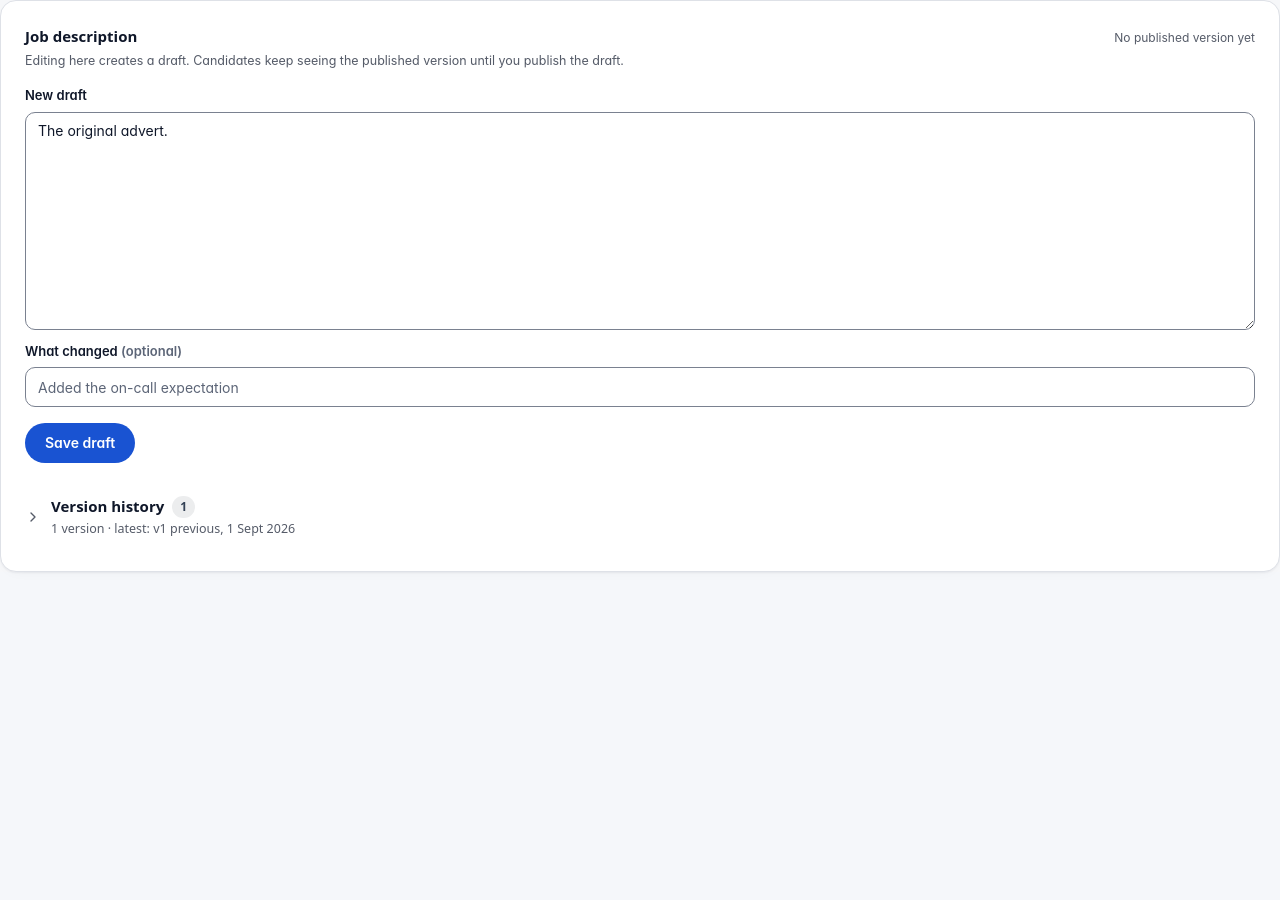
it: history › shows when each version was the live one
Click the button "Version history": (108, 506) [25, 487, 1255, 547]
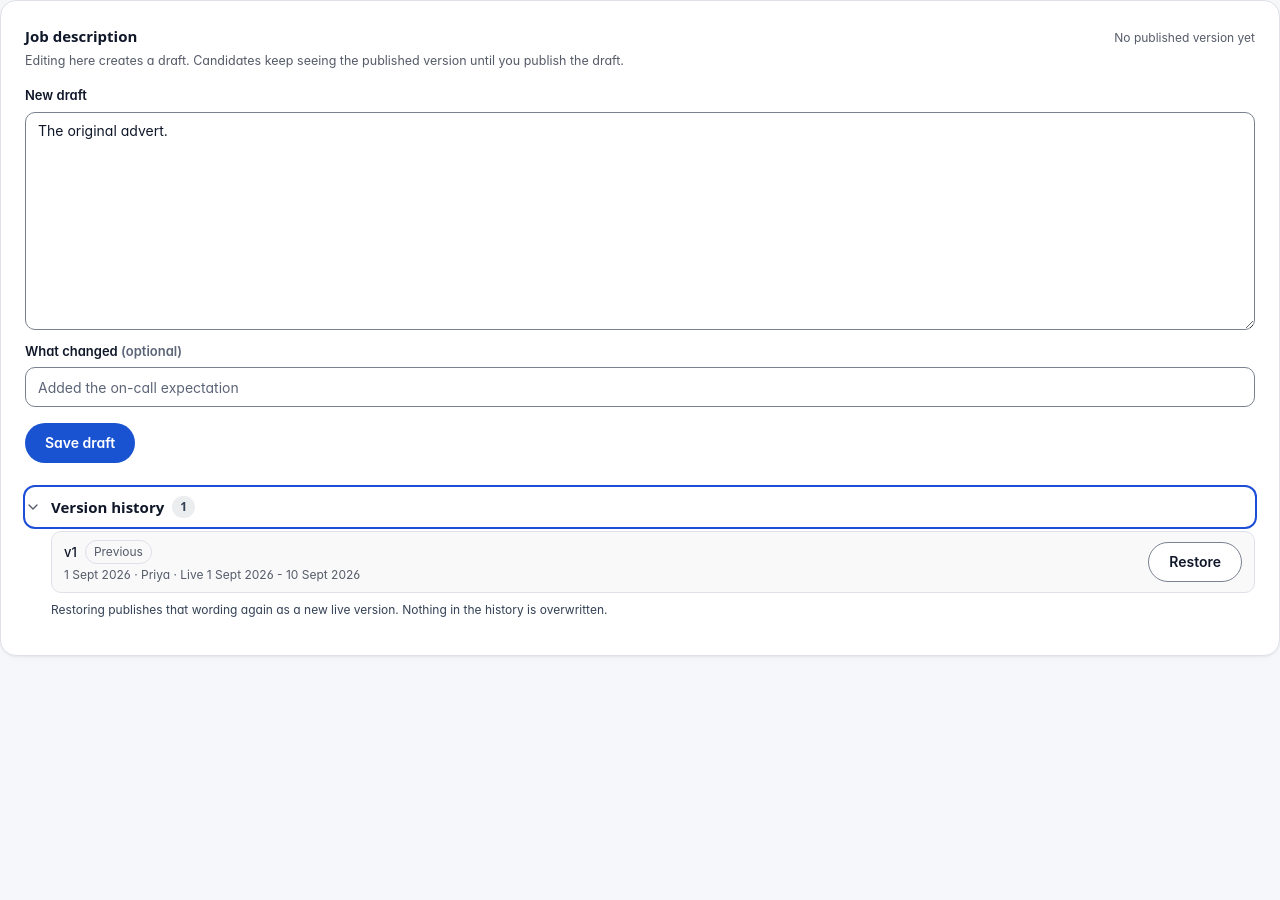
Result: the text "1 Sept 2026 · Priya · Live 1 Sept 2026 - 10 Sept 2026" is shown at [64, 566, 360, 584]
